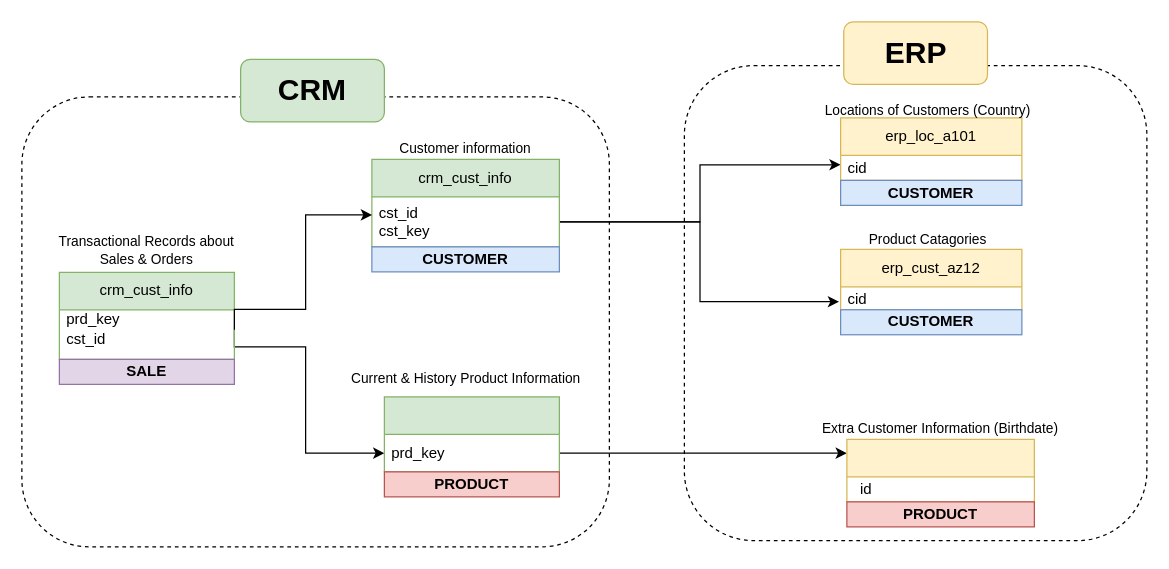
The diagram is 1169 pixels wide and 569 high, and some of its shapes have lost their labels. Each missing label, with the box of its shape:
crm_prd_info: (383, 396, 559, 472)
erp_px_cat_g1v2: (846, 438, 1034, 502)
